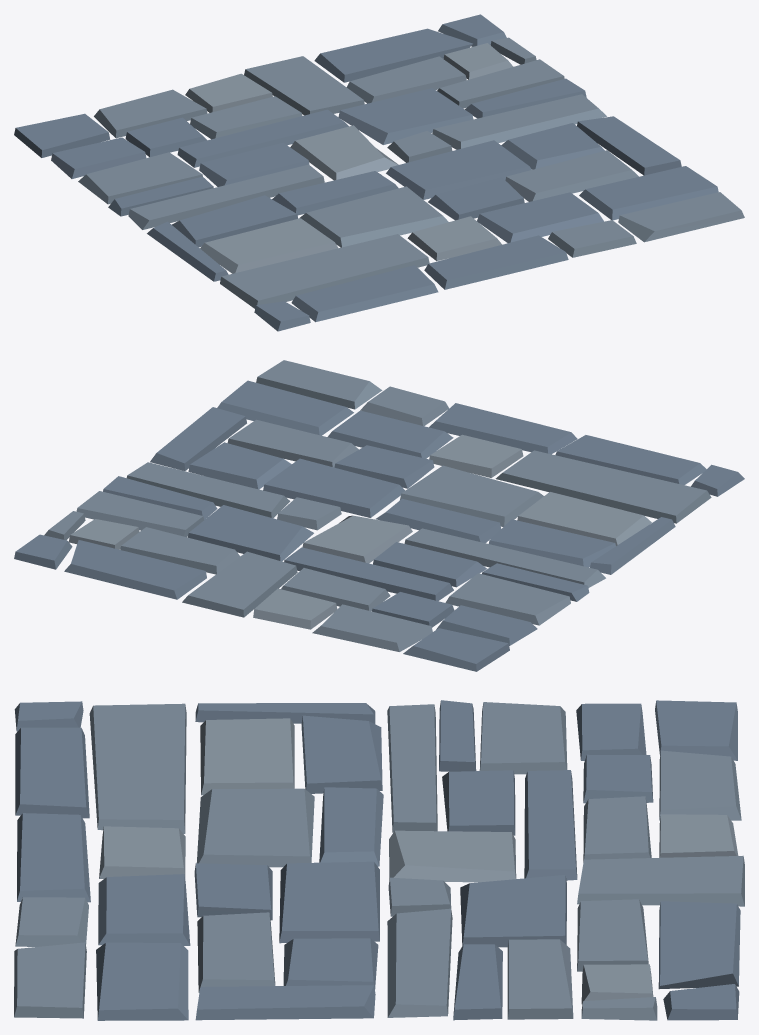
File: pathway.glb
3 views of the same model, one above another, from view 1: azimuth 30°, elevation 25°; view 2: azimuth 150°, elevation 25°; view 3: azimuth 270°, elevation 25° (orthographic). The views are drawn at different scales.
Visible parts, largest first — view 1: walkway-stone; view 2: walkway-stone; view 3: walkway-stone.
Boxes of the visible parts, <box> form: walkway-stone: <box>14,14,744,331</box>; walkway-stone: <box>14,360,744,671</box>; walkway-stone: <box>14,700,744,1020</box>.
Size of the model in its own units: 1.87 by 0.0277 by 1.85.
Materials: 1 (1 with a texture image).
